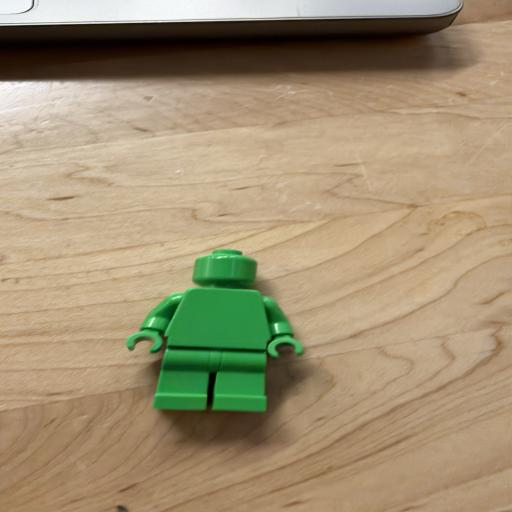green_minifig: (126, 248, 304, 412)
